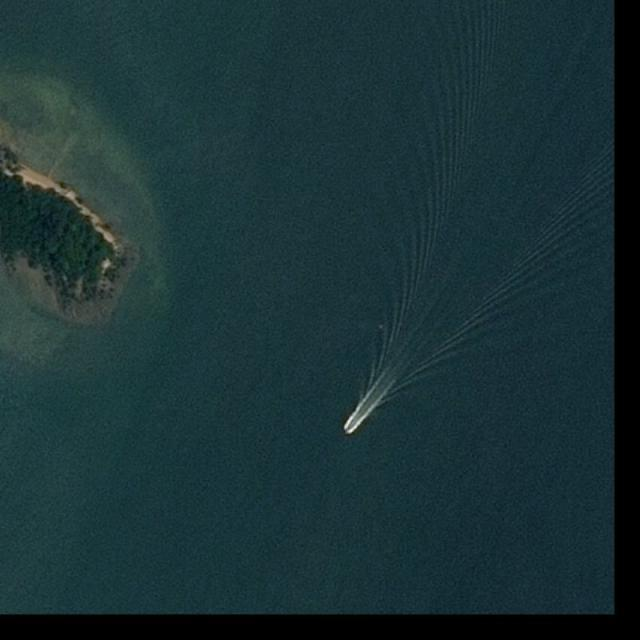ship: (346, 422, 356, 435)
